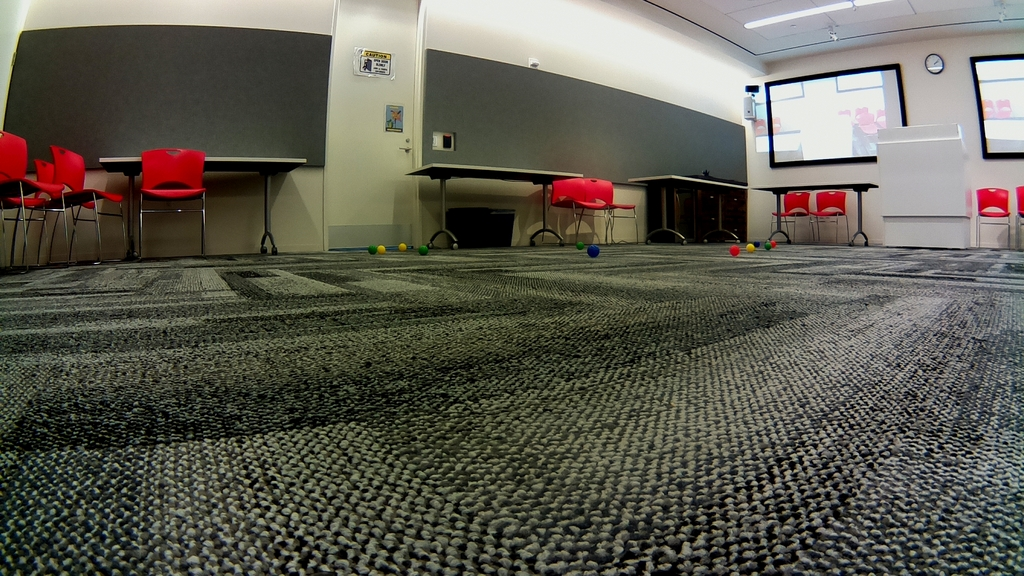ball: (588, 244, 598, 255)
